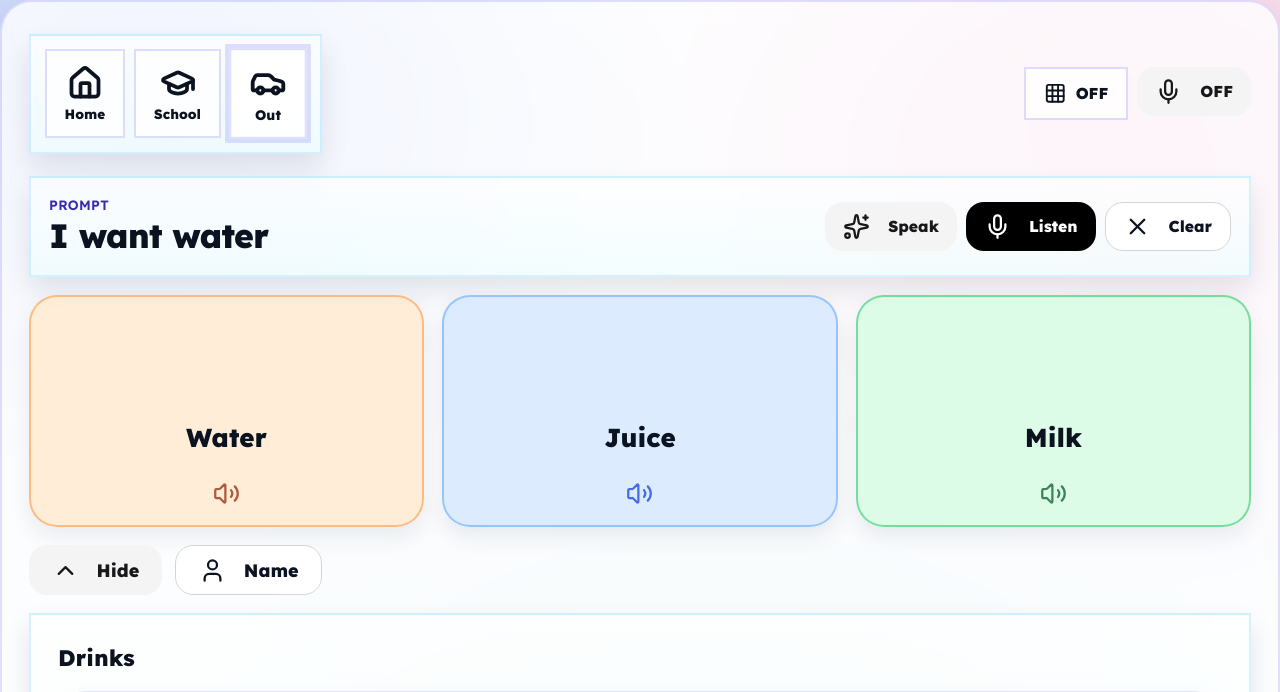
Scenario: clear button resets question and AI state
The image size is (1280, 692).
Click the button "Clear": click(1168, 227) [1105,202,1231,251]
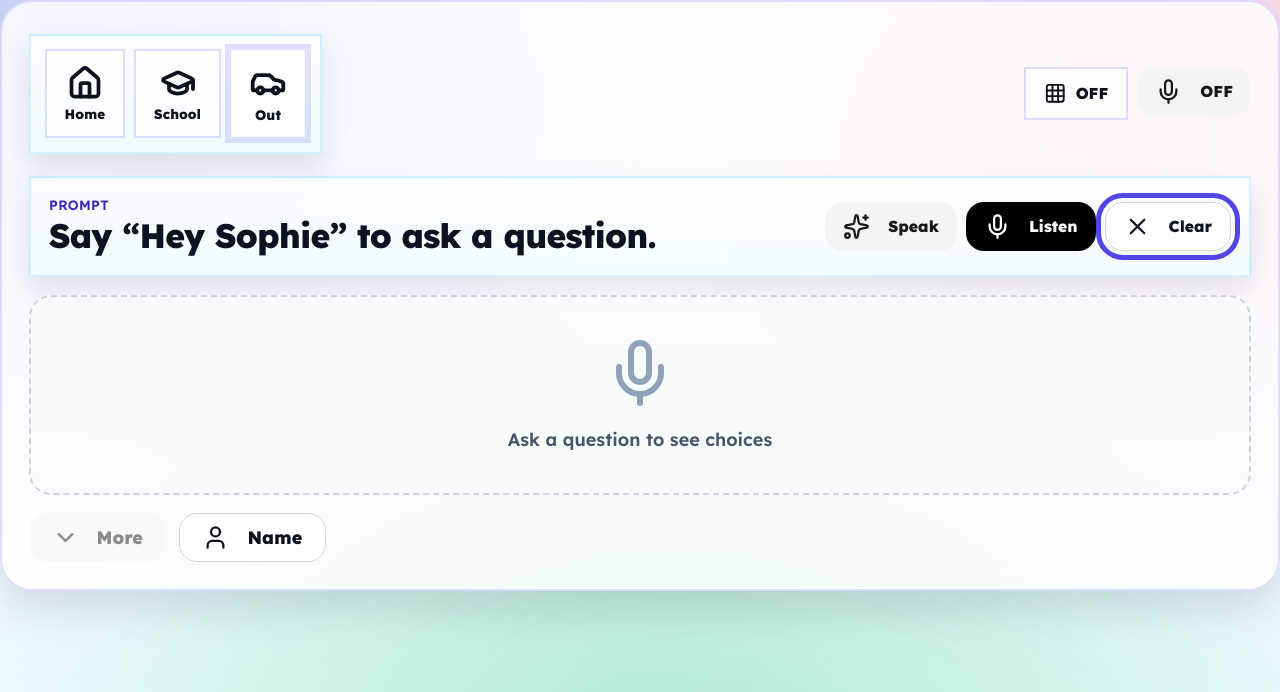
Check: the text "Ask a question to see choices" is shown, box [508,427,772,453]
